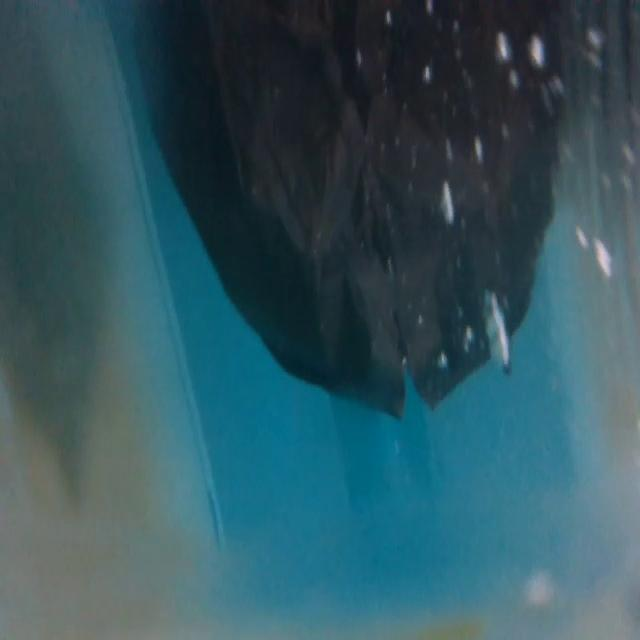plastic bags: (123, 4, 575, 424)
